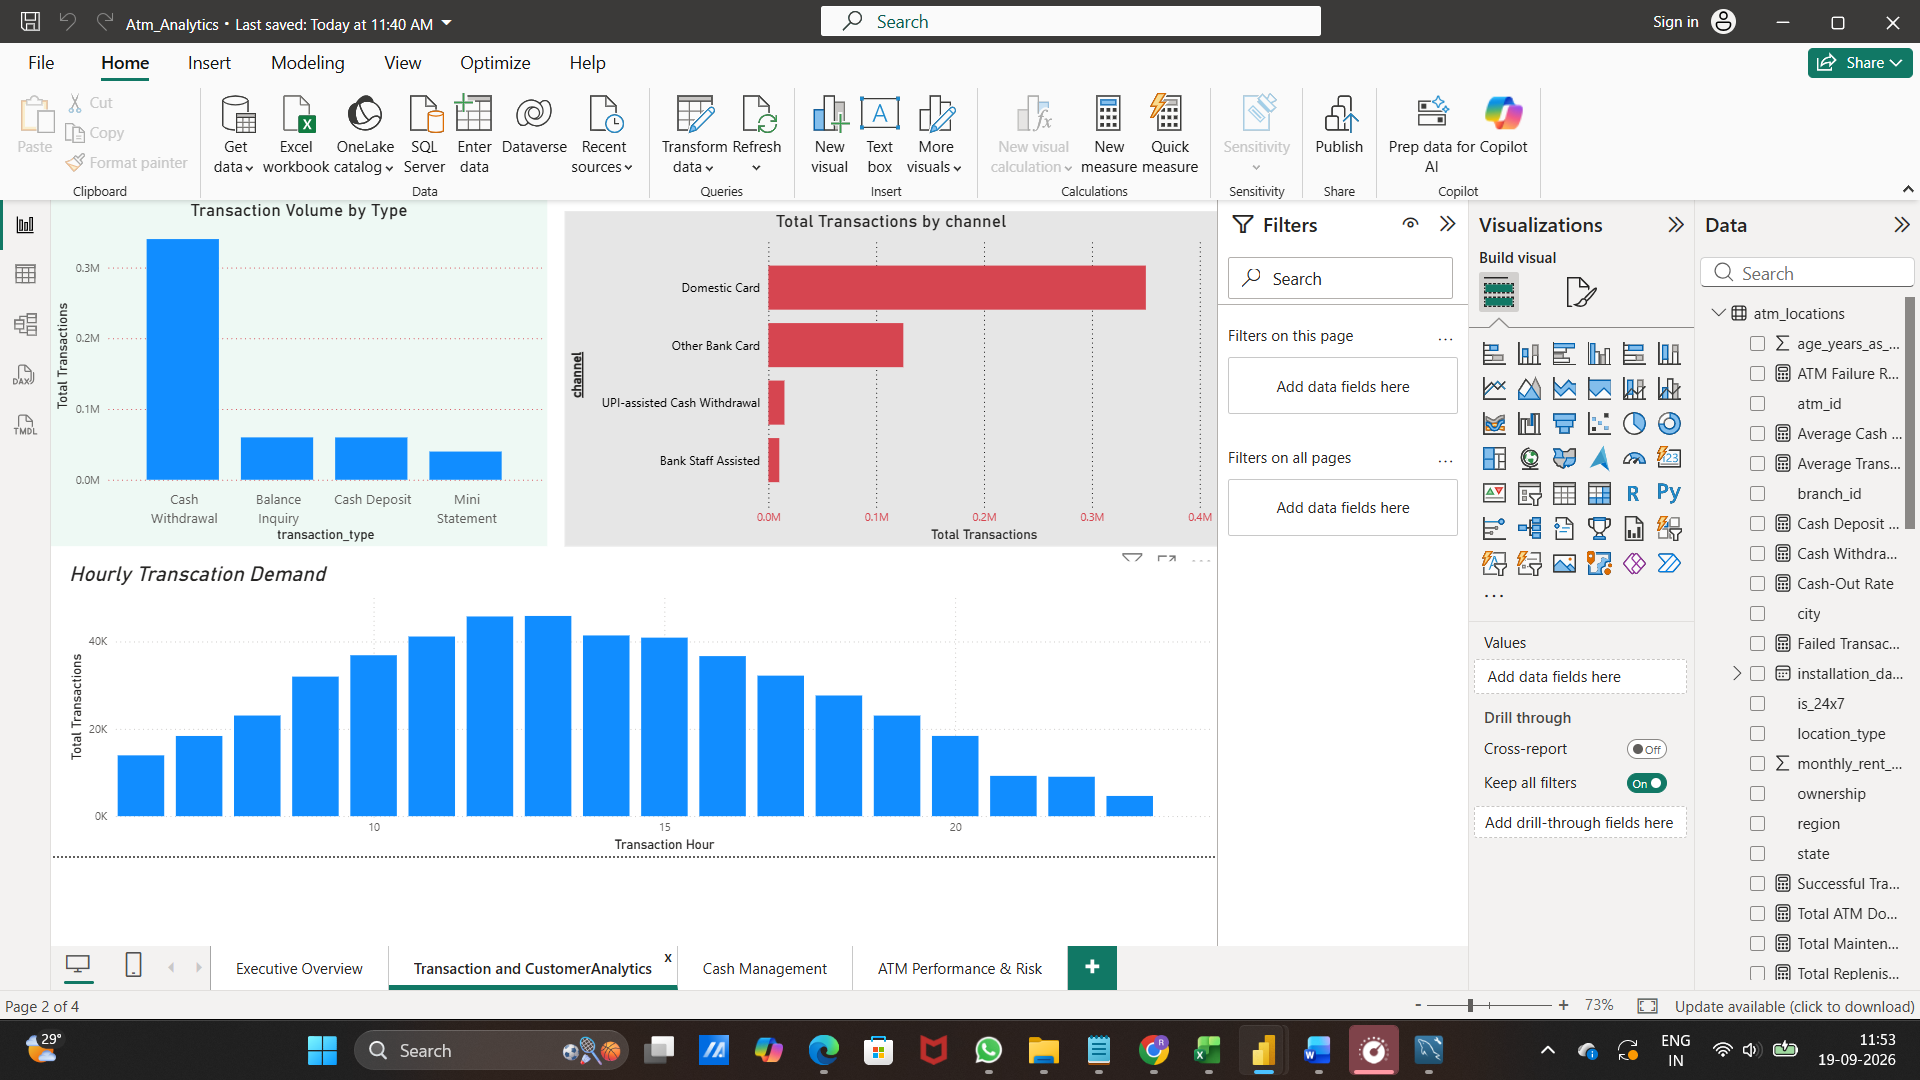

Layout of this report page (visuals, bound fields, positions):
{"tool":"powerbi","page":{"name":"Transaction and CustomerAnalytics","canvas":[1280,720],"ordinal":1},"visuals":[{"type":"clusteredColumnChart","title":"Transaction Volume by Type","fields":{"Category":["transactions.transaction_type"],"Y":["atm_locations.Total Transactions"]},"box":[0,0,544.8,380.1],"z":0},{"type":"clusteredBarChart","fields":{"Category":["transactions.channel"],"Y":["atm_locations.Total Transactions"]},"box":[564,12.3,716.3,367.8],"z":1000},{"type":"clusteredColumnChart","title":"Hourly Transcation Demand","fields":{"Y":["atm_locations.Total Transactions"],"Category":["transactions.Transaction Hour"]},"box":[15.1,396.6,1265.2,323.8],"z":2000}]}

Visuals, with their boxes on the page's 1280x720 design canvas (x1, y1, x2, y2). These are canvas units, not pixel positions in the 1920x1080 screenshot, which may show the page scaled, cropped or inside an application window:
"Transaction Volume by Type" clusteredColumnChart: rect(0, 0, 545, 380)
clusteredBarChart - transactions.channel x atm_locations.Total Transactions: rect(564, 12, 1280, 380)
"Hourly Transcation Demand" clusteredColumnChart: rect(15, 397, 1280, 720)
